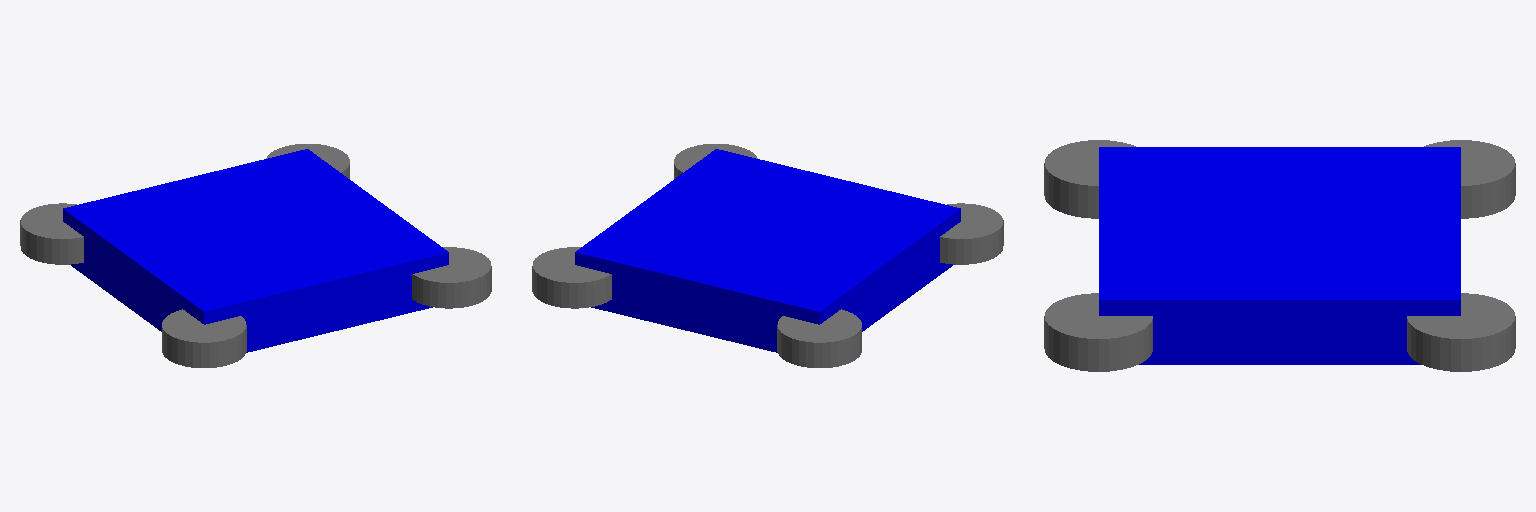
robot.urdf — routewise:
<?xml version="1.0" ?>
<!-- =================================================================================== -->
<!-- |    This document was autogenerated by xacro from routewise.urdf.xacro           | -->
<!-- |    EDITING THIS FILE BY HAND IS NOT RECOMMENDED                                 | -->
<!-- =================================================================================== -->
<robot name="routewise">
  <!-- Material Definitions -->
  <material name="blue">
    <color rgba="0 0 1 1"/>
  </material>
  <material name="grey">
    <color rgba="0.5 0.5 0.5 1"/>
  </material>
  <!-- Base Link -->
  <link name="base_link">
    <visual>
      <geometry>
        <box size="0.5 0.5 0.1"/>
      </geometry>
      <material name="blue"/>
    </visual>
    <collision>
      <geometry>
        <box size="0.5 0.5 0.1"/>
      </geometry>
    </collision>
  </link>
  <link name="front_left_wheel">
    <visual>
      <geometry>
        <cylinder length="0.05" radius="0.075"/>
      </geometry>
      <material name="grey"/>
    </visual>
    <collision>
      <geometry>
        <cylinder length="0.05" radius="0.075"/>
      </geometry>
    </collision>
  </link>
  <link name="front_right_wheel">
    <visual>
      <geometry>
        <cylinder length="0.05" radius="0.075"/>
      </geometry>
      <material name="grey"/>
    </visual>
    <collision>
      <geometry>
        <cylinder length="0.05" radius="0.075"/>
      </geometry>
    </collision>
  </link>
  <link name="rear_left_wheel">
    <visual>
      <geometry>
        <cylinder length="0.05" radius="0.075"/>
      </geometry>
      <material name="grey"/>
    </visual>
    <collision>
      <geometry>
        <cylinder length="0.05" radius="0.075"/>
      </geometry>
    </collision>
  </link>
  <link name="rear_right_wheel">
    <visual>
      <geometry>
        <cylinder length="0.05" radius="0.075"/>
      </geometry>
      <material name="grey"/>
    </visual>
    <collision>
      <geometry>
        <cylinder length="0.05" radius="0.075"/>
      </geometry>
    </collision>
  </link>
  <joint name="front_left_wheel_joint" type="continuous">
    <parent link="base_link"/>
    <child link="front_left_wheel"/>
    <origin rpy="0 0 0" xyz="0.25 0.25 0"/>
    <axis xyz="0 0 1"/>
  </joint>
  <joint name="front_right_wheel_joint" type="continuous">
    <parent link="base_link"/>
    <child link="front_right_wheel"/>
    <origin rpy="0 0 0" xyz="0.25 -0.25 0"/>
    <axis xyz="0 0 1"/>
  </joint>
  <joint name="rear_left_wheel_joint" type="continuous">
    <parent link="base_link"/>
    <child link="rear_left_wheel"/>
    <origin rpy="0 0 0" xyz="-0.25 0.25 0"/>
    <axis xyz="0 0 1"/>
  </joint>
  <joint name="rear_right_wheel_joint" type="continuous">
    <parent link="base_link"/>
    <child link="rear_right_wheel"/>
    <origin rpy="0 0 0" xyz="-0.25 -0.25 0"/>
    <axis xyz="0 0 1"/>
  </joint>
  <!-- Additional robot components, sensors, etc., can be added here -->
</robot>

--- Facts derived from the render (not from the file) ---
3 views of the same robot in one strip: view 1: azimuth 30°, elevation 25°; view 2: azimuth 150°, elevation 25°; view 3: azimuth 270°, elevation 25° (orthographic).
Model routewise with 5 links and 4 joints (4 continuous), rooted at base_link, posed every joint at zero.
Visible links, largest first — view 1: base_link, rear_right_wheel, front_right_wheel, rear_left_wheel, front_left_wheel; view 2: base_link, rear_left_wheel, front_left_wheel, rear_right_wheel, front_right_wheel; view 3: base_link, front_left_wheel, front_right_wheel, rear_left_wheel, rear_right_wheel.
Link boxes in pixels (box(x1,y1,x2,y2)): base_link: box(63, 149, 448, 352); rear_right_wheel: box(162, 309, 246, 367); front_right_wheel: box(412, 247, 491, 308); rear_left_wheel: box(20, 203, 83, 264); front_left_wheel: box(266, 144, 349, 178); base_link: box(575, 149, 960, 352); rear_left_wheel: box(777, 309, 861, 367); front_left_wheel: box(532, 247, 611, 308); rear_right_wheel: box(940, 203, 1003, 264); front_right_wheel: box(674, 144, 757, 178); base_link: box(1099, 147, 1460, 364); front_left_wheel: box(1407, 293, 1515, 371); front_right_wheel: box(1044, 293, 1152, 371); rear_left_wheel: box(1424, 140, 1515, 218); rear_right_wheel: box(1044, 140, 1135, 218).
Size in the robot's own frame: 0.65 by 0.65 by 0.1 metres.
Geometry: primitives only (box / cylinder / sphere), no mesh files.